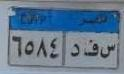4: (48, 36, 60, 61)
5: (24, 39, 34, 57)
6: (11, 34, 23, 60)
8: (36, 35, 48, 60)
daal: (70, 42, 80, 60)
faa: (83, 38, 99, 60)
seen: (100, 41, 116, 60)
